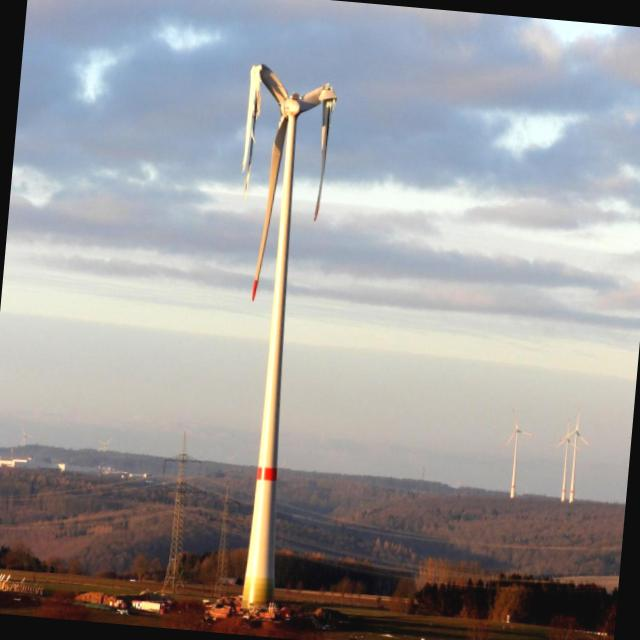crack: (301, 71, 340, 221), (234, 55, 269, 186)
